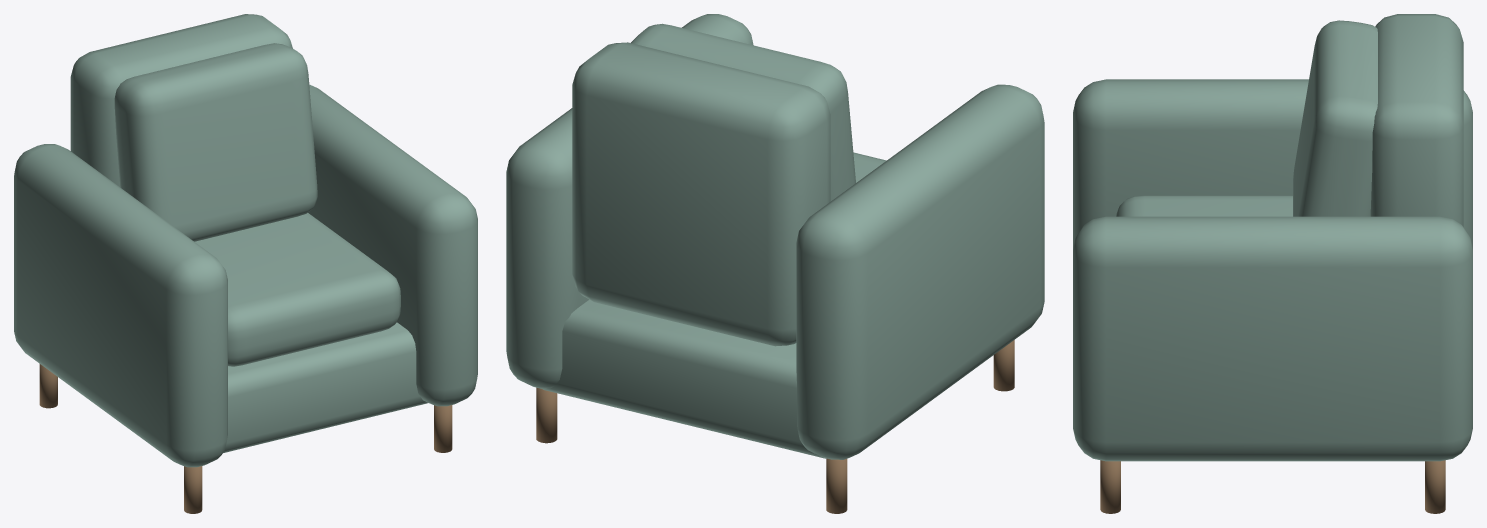
File: armchair.glb
3 views of the same model, side by side, from view 1: azimuth 30°, elevation 25°; view 2: azimuth 150°, elevation 25°; view 3: azimuth 270°, elevation 25° (orthographic). The views are drawn at different scales.
Visible parts, largest first — view 1: Cube.001, Cube.005, Cube.002, Cube.004, Cube, Cube.003, Cylinder.002, Cylinder, Cylinder.001; view 2: Cube.001, Cube.003, Cube, Cube.002, Cube.005, Cylinder.001, Cylinder.003, Cylinder; view 3: Cube.002, Cube.001, Cube.003, Cube.005, Cube.004, Cylinder.002, Cylinder.003.
Boxes of the visible parts, left/top/right/bottom form: Cube.001: left=14, top=144, right=227, bottom=467; Cube.005: left=114, top=43, right=317, bottom=241; Cube.002: left=308, top=84, right=477, bottom=406; Cube.004: left=194, top=213, right=400, bottom=366; Cube: left=223, top=322, right=427, bottom=452; Cube.003: left=70, top=14, right=292, bottom=186; Cylinder.002: left=434, top=405, right=452, bottom=452; Cylinder: left=184, top=466, right=202, bottom=513; Cylinder.001: left=39, top=364, right=57, bottom=408; Cube.001: left=796, top=84, right=1044, bottom=459; Cube.003: left=572, top=42, right=830, bottom=346; Cube: left=542, top=299, right=826, bottom=458; Cube.002: left=506, top=14, right=753, bottom=388; Cube.005: left=631, top=23, right=855, bottom=201; Cylinder.001: left=826, top=458, right=847, bottom=513; Cylinder.003: left=536, top=387, right=557, bottom=443; Cylinder: left=993, top=340, right=1014, bottom=391; Cube.002: left=1073, top=216, right=1472, bottom=461; Cube.001: left=1073, top=79, right=1472, bottom=248; Cube.003: left=1370, top=14, right=1463, bottom=226; Cube.005: left=1293, top=20, right=1377, bottom=216; Cube.004: left=1116, top=195, right=1292, bottom=216; Cylinder.002: left=1100, top=460, right=1120, bottom=513; Cylinder.003: left=1425, top=460, right=1445, bottom=513.
Bounding box in the file's own units: 0.85 × 0.895 × 0.85.
